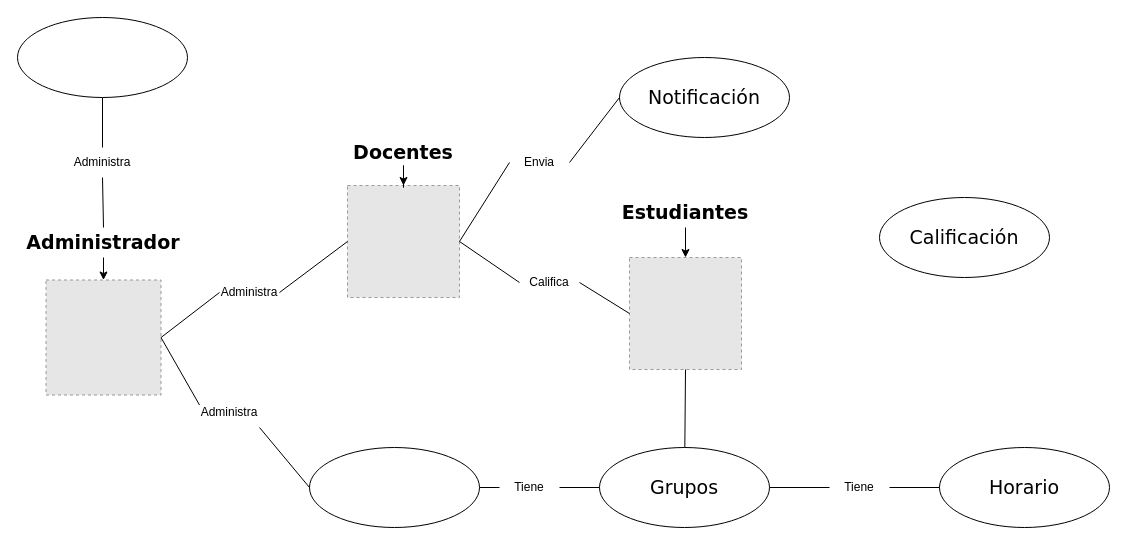
The diagram is 1127 pixels wide and 545 high, and some of its shapes have lost their labels. Grey dashed boxes stand in for pictures. Here are the shapes that lost their labels. From the top down, the centre of each, then its label:
At (102,57): "Programa Académico".
At (394,487): "Asignaturas".
